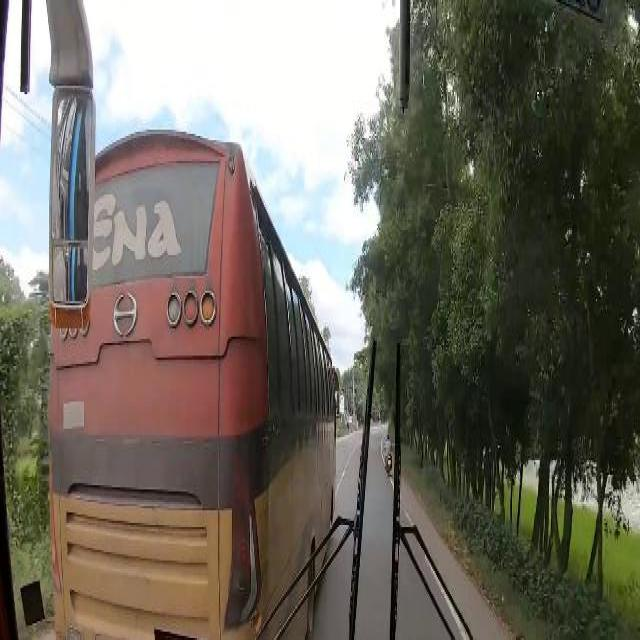bike: (386, 450, 392, 471)
vehicle: (50, 126, 344, 634)
